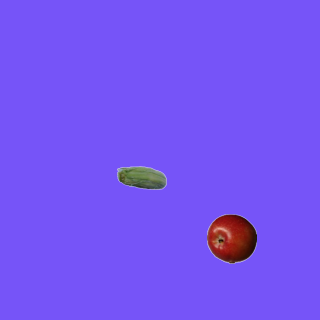Apple Braeburn: (206, 213, 256, 263)
Corn Husk: (116, 154, 166, 204)
